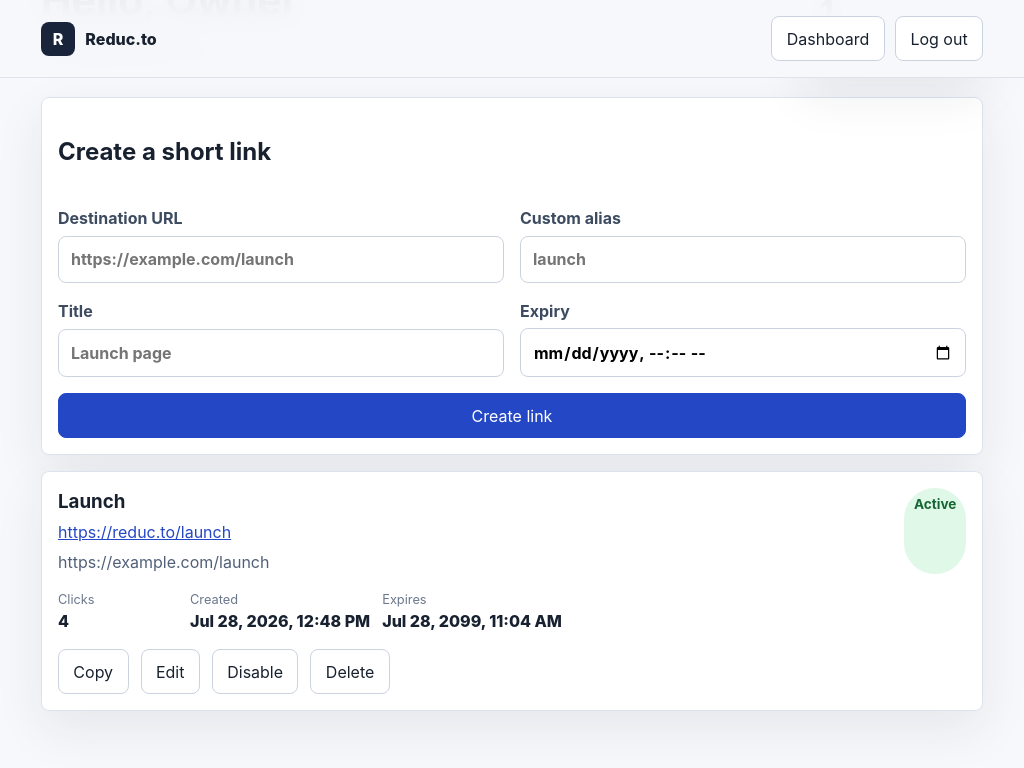
Scenario: App › formats ISO expiry values for datetime-local edit fields
(page scrolled)
Click the button "Edit".
click(170, 672)  # box left=140, top=649, right=200, bottom=694
(page scrolled)
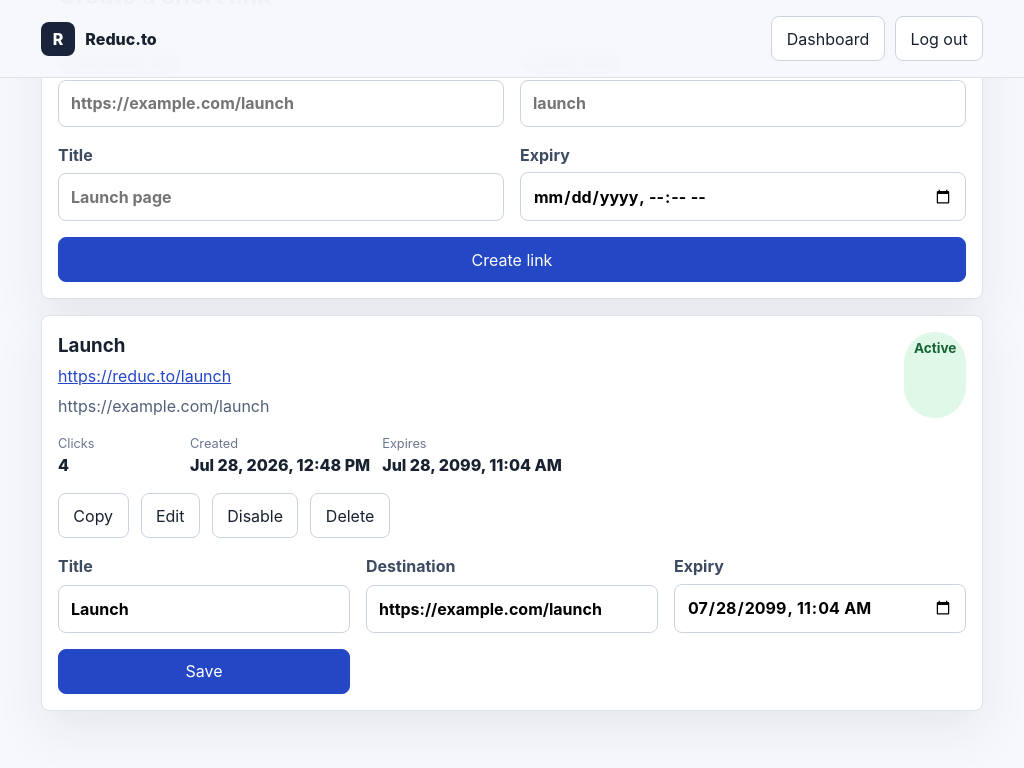
Expected: the field labelled "Expiry" below "Jul 28, 2099, 11:04 AM" holds "2099-07-28T11:04", left=674, top=584, right=966, bottom=633
